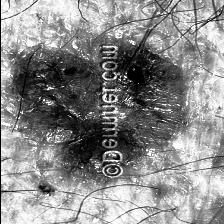Potentially Malignant Skin Tumors: (17, 34, 100, 176), (118, 40, 192, 176)
